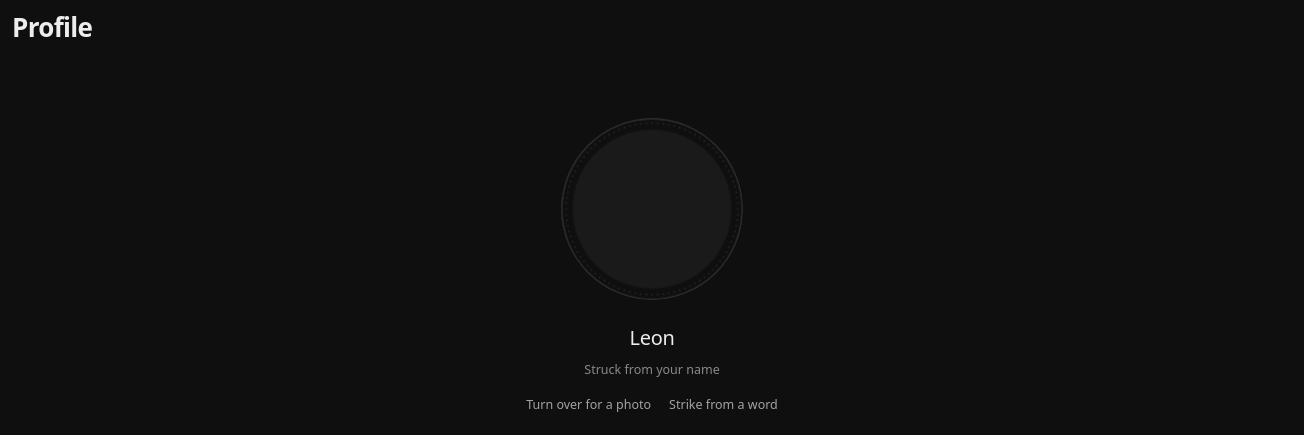
Test case: profile settings › rolls a word to try with the die
The width and height of the screenshot is (1304, 435).
What coordinates should you click on to do the following:
click the button "Strike from a word"
I would click on:
 (723, 404)
Its box is [661,393,786,416].
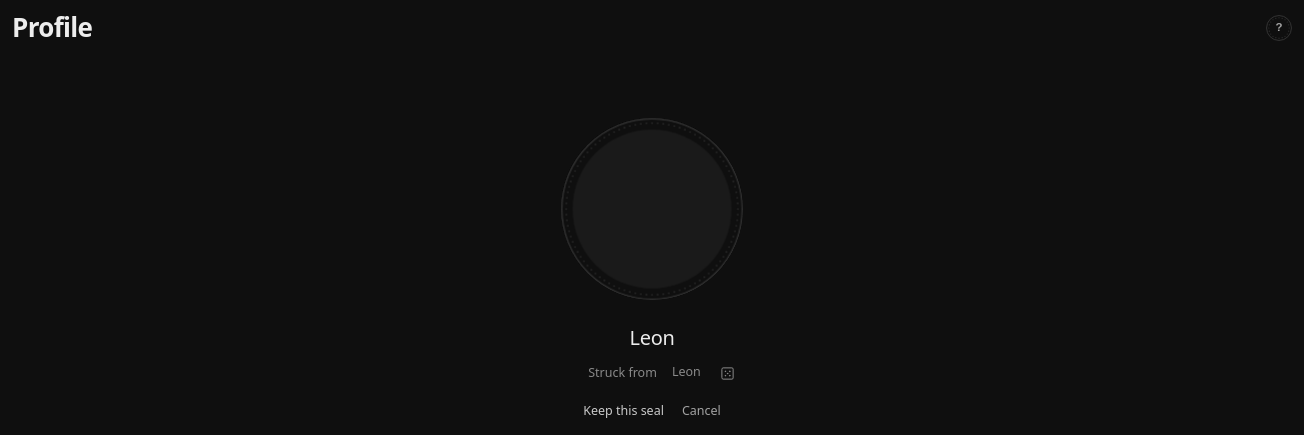
What coordinates should you click on to do the following:
click the button named "Another word"
I would click on:
 (728, 373)
Its box is [716,361,740,385].
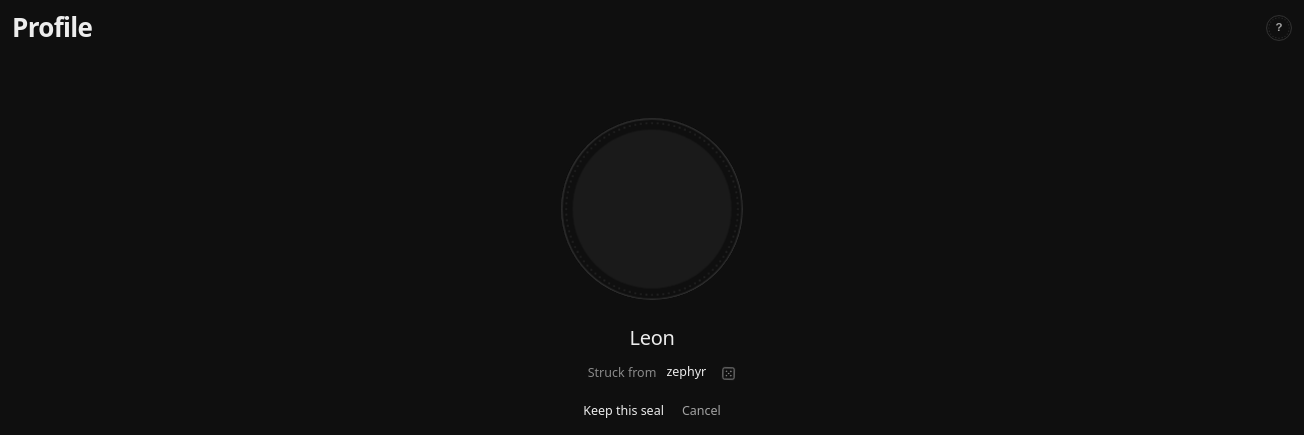
What coordinates should you click on to do the following:
click the button named "Another word"
I would click on:
 (728, 373)
Its box is [716,361,740,385].
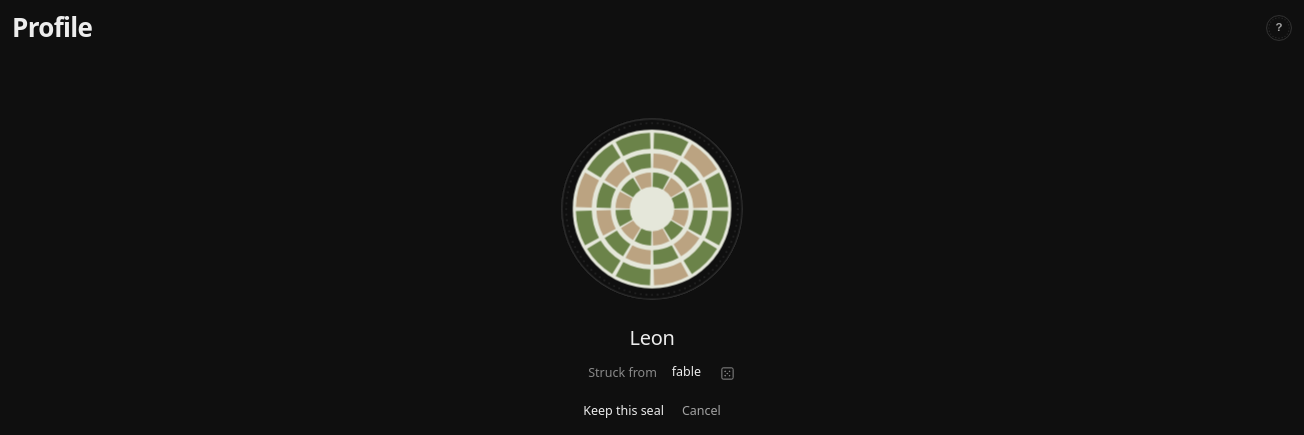
Expected: the field labelled "Struck from" does not hold "zephyr", [665,363,708,383]
